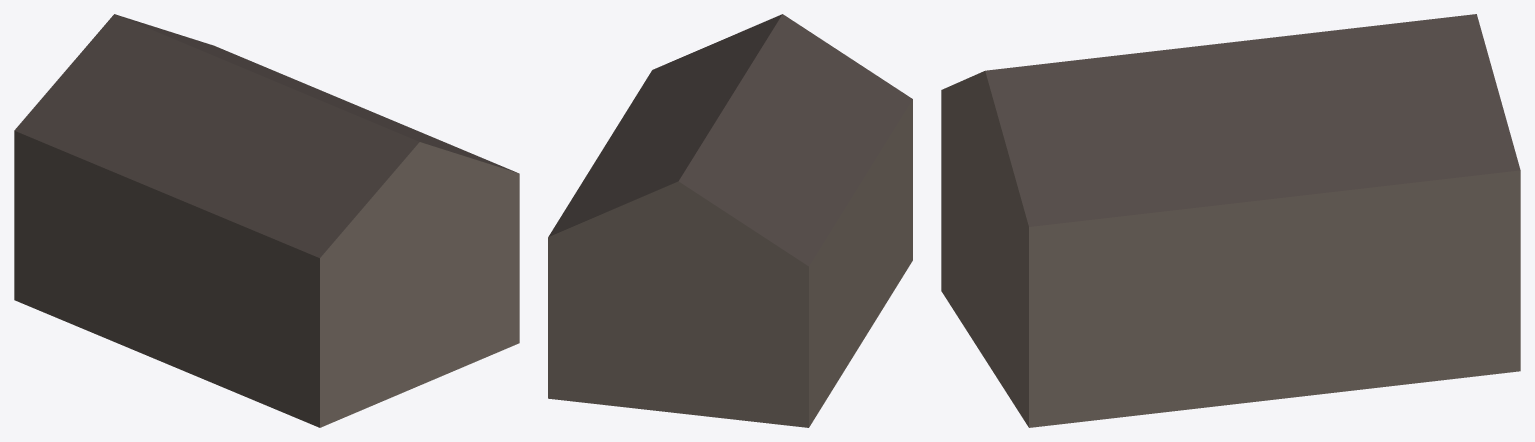
3 renders of one model, left to right at view 1: azimuth 30°, elevation 25°; view 2: azimuth 150°, elevation 25°; view 3: azimuth 270°, elevation 25°, orthographic. The views are drawn at different scales.
Parts seen in each view (by area): view 1: HP-w408450677; view 2: HP-w408450677; view 3: HP-w408450677.
Part boxes in pixels (x1,y1,x2,y2): HP-w408450677: (14, 14, 519, 427); HP-w408450677: (548, 14, 912, 427); HP-w408450677: (941, 14, 1520, 427).
Bounding box in the file's own units: 12.41 × 8.62 × 15.68.
